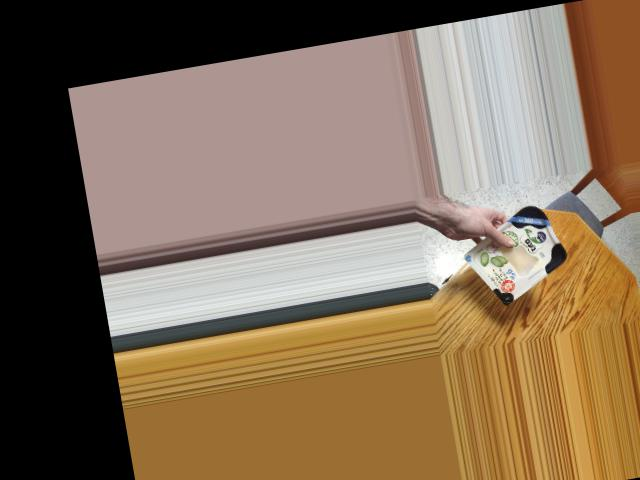cheese: (469, 203, 570, 303)
